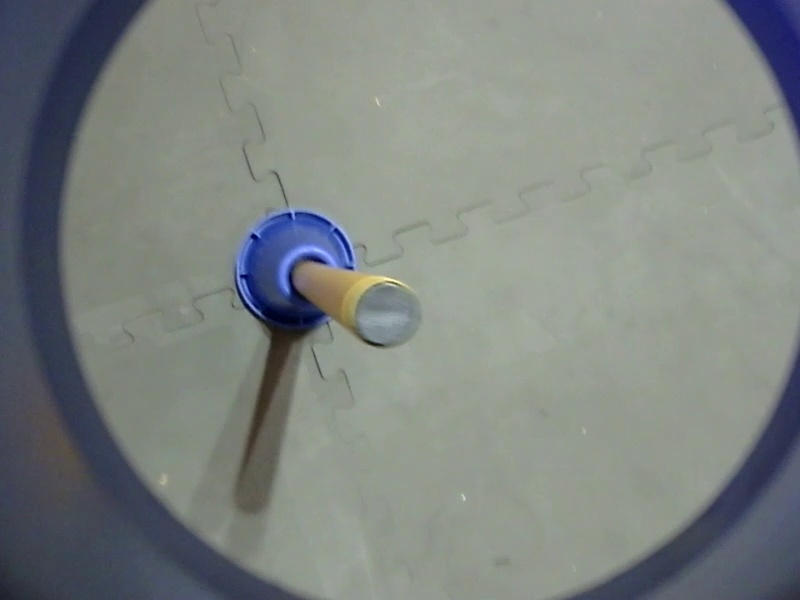tip: (351, 17, 456, 120)
